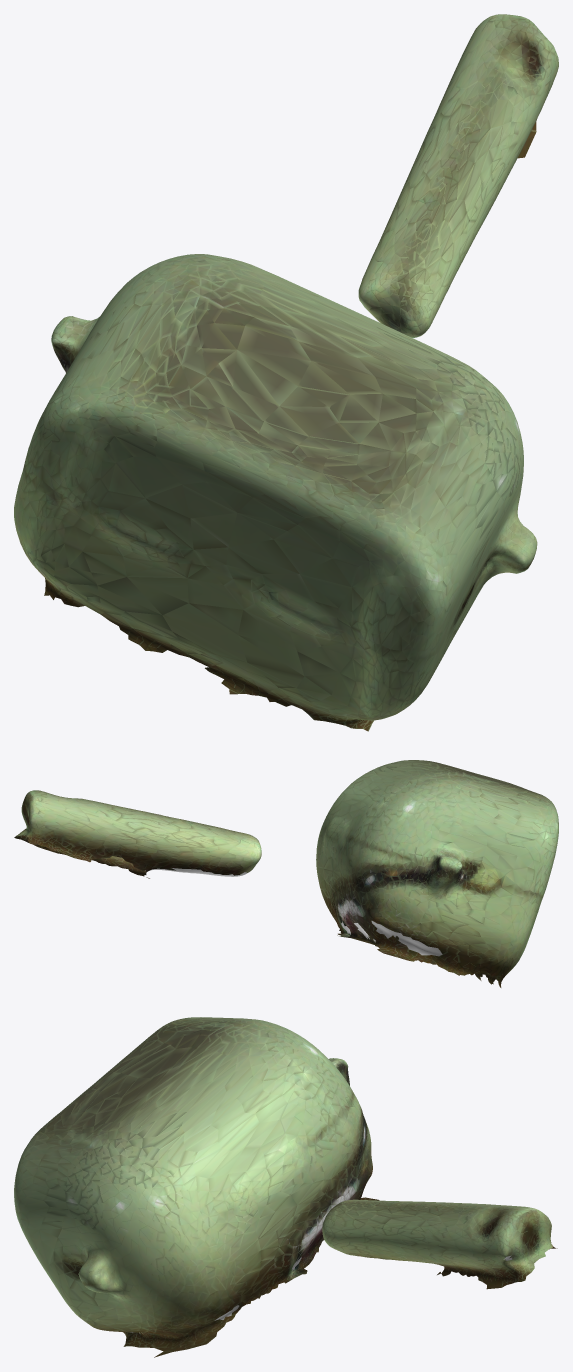
File: lint-roller-1.obj
3 renders of one model, top to bottom at view 1: azimuth 30°, elevation 25°; view 2: azimuth 150°, elevation 25°; view 3: azimuth 270°, elevation 25°, orthographic. The views are drawn at different scales.
Bounding box in the file's own units: 185 × 103 × 174.
2 materials, 1 textured.
